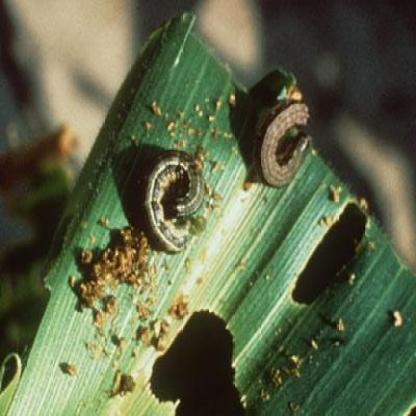armyworm: (143, 144, 207, 254), (255, 96, 315, 188)
